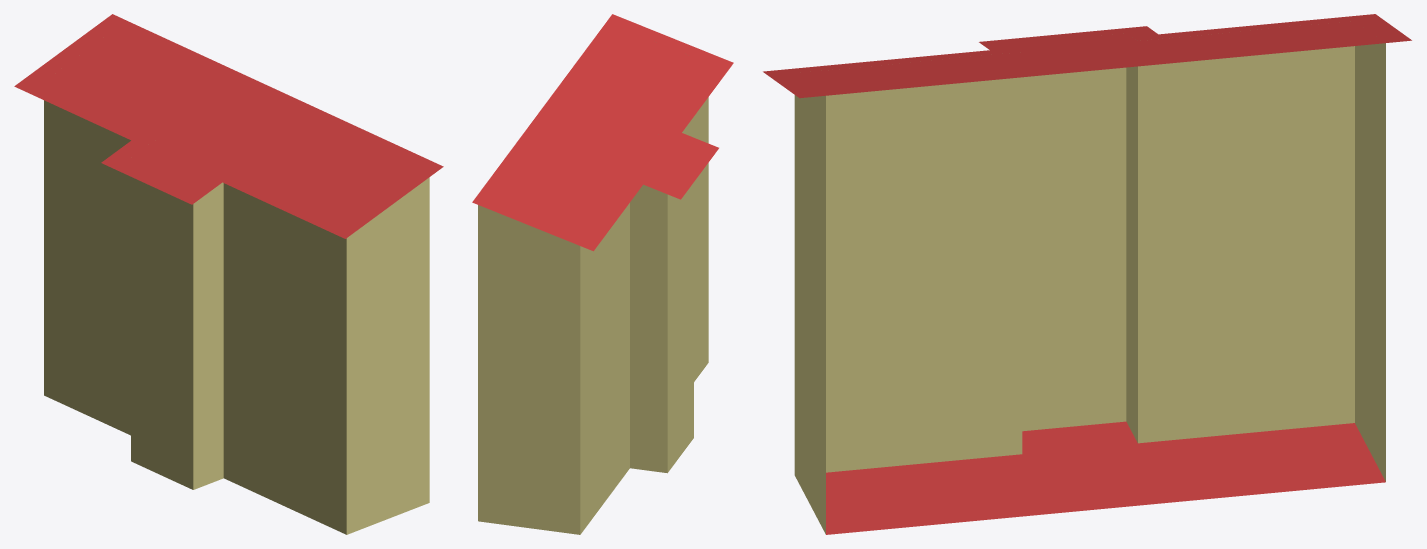
The picture shows the model from 3 angles, left to right: view 1: azimuth 30°, elevation 25°; view 2: azimuth 150°, elevation 25°; view 3: azimuth 270°, elevation 25°; orthographic projection. The views are drawn at different scales.
Bounding box in the file's own units: 5.65 × 11.98 × 8.93.
